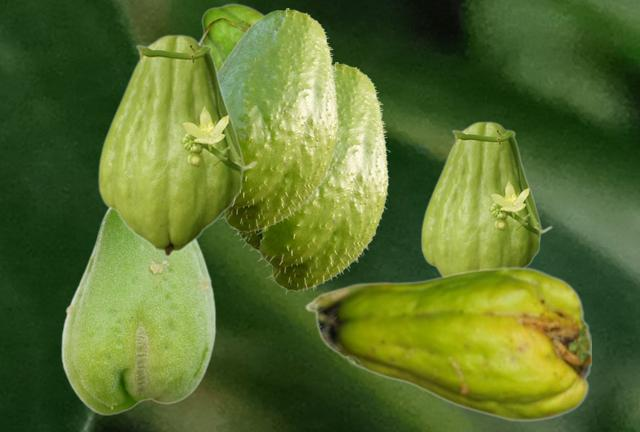sayote: (304, 266, 590, 421), (229, 62, 389, 293), (97, 34, 257, 256), (60, 208, 215, 414), (218, 8, 339, 234), (420, 121, 552, 275), (199, 3, 264, 70)
